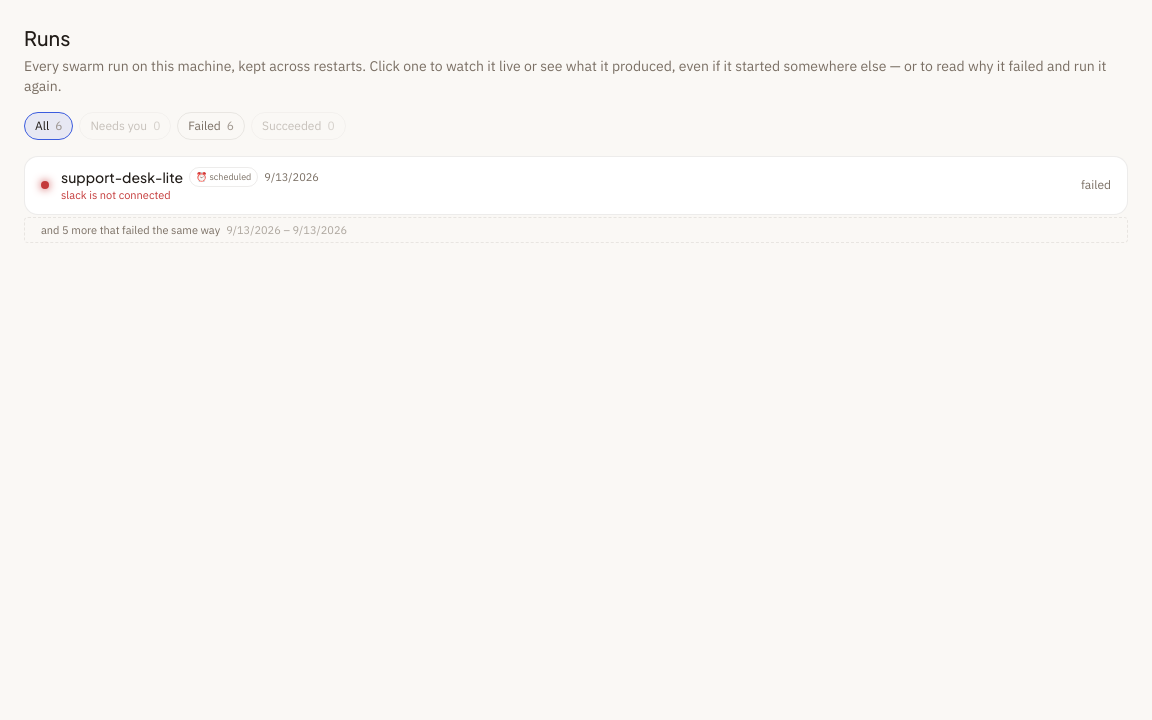
Test: RunsPage › collapses a streak of identical failures into one row
Expected: the text "support-desk-lite" is shown once, [61,167,183,187]
Click the button "and 5 more that failed the same way9/13/2026 – 9/13/2026" at coordinates (131, 230), box [24,216,1128,243]
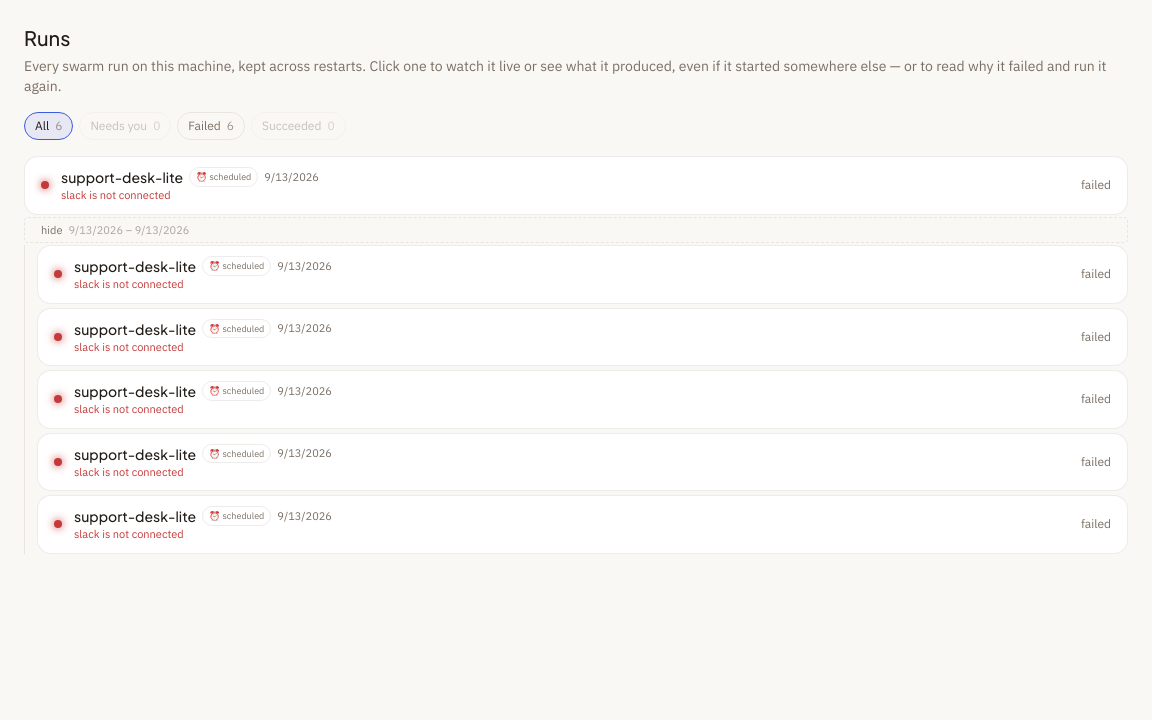
Now the text "support-desk-lite" is shown 6 times, box [61,167,183,187]; [74,256,196,276]; [74,318,196,338]; [74,381,196,401]; [74,444,196,464]; [74,506,196,526]
